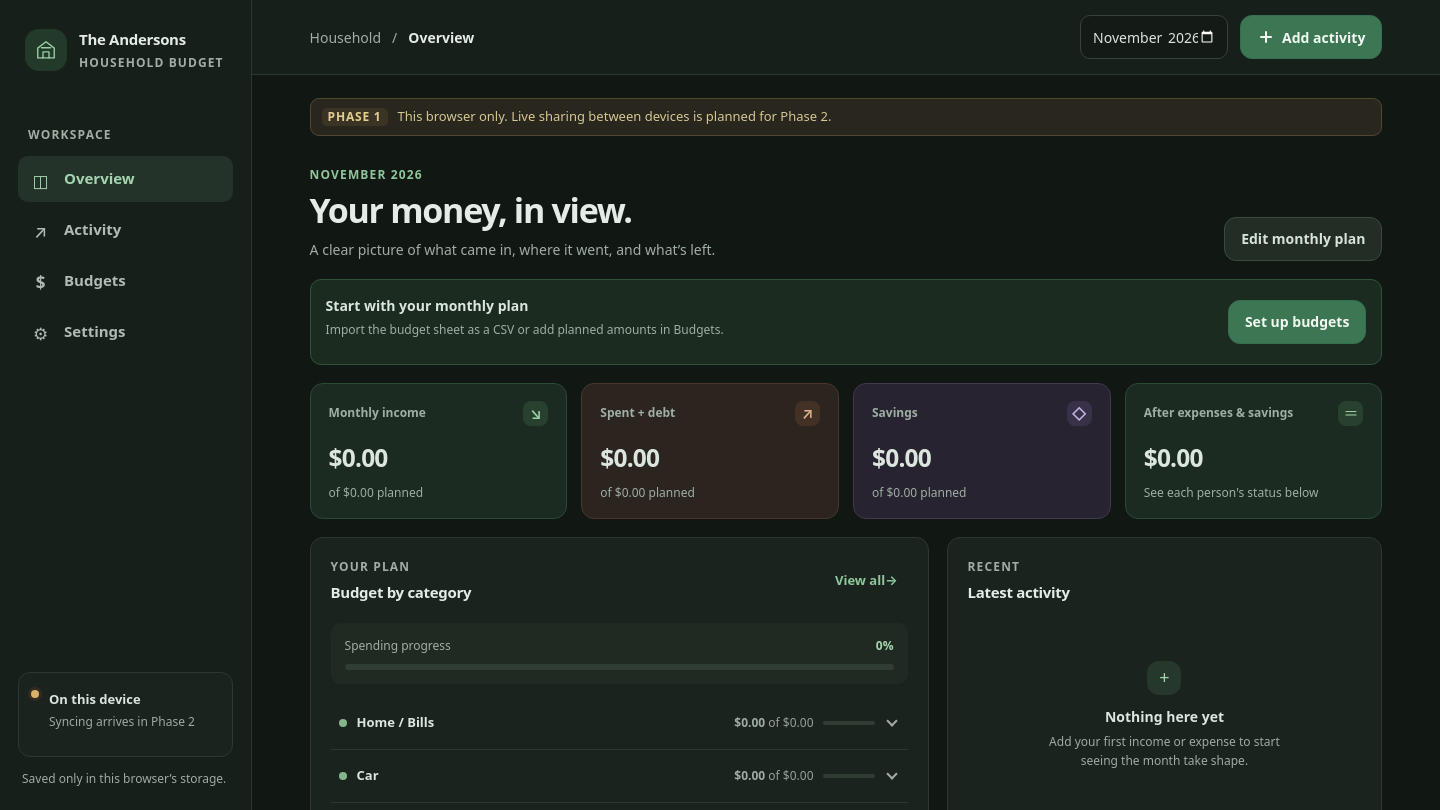
Test case: budget app phase 1 › shows one add activity action on the empty Activity page
expect the button "Add activity" is shown: met, box [1240,15,1382,59]
Click the button "↗ Activity" at (126, 230), box [18,206,233,252]
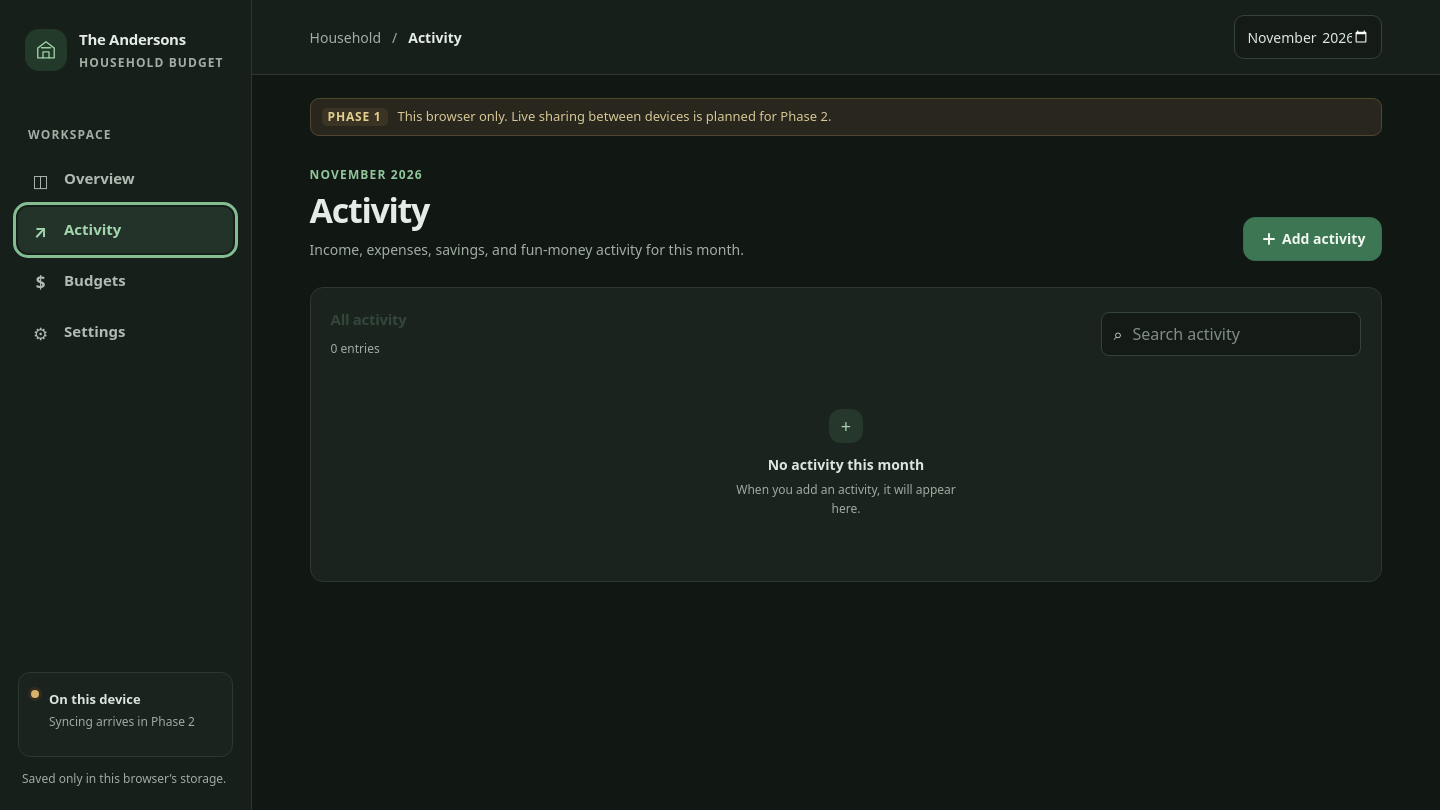
expect the number of buttons "Add activity" is 1: met, box [1243,217,1382,261]
